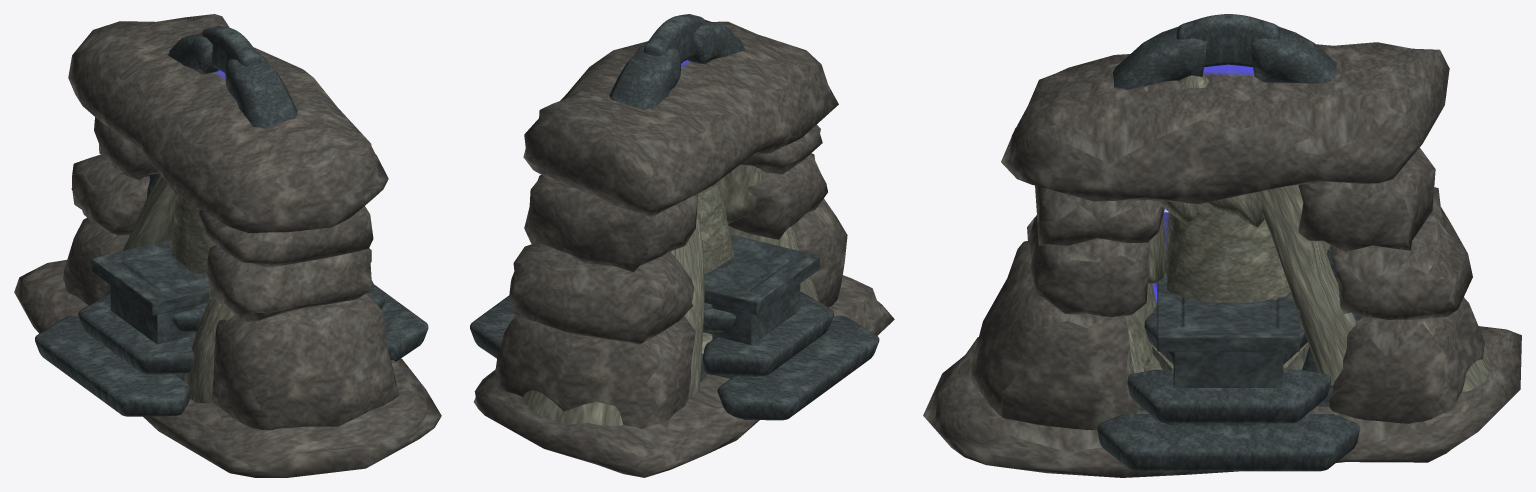
Rendered from stonework.glb.
The picture shows the model from 3 angles, left to right: view 1: azimuth 30°, elevation 25°; view 2: azimuth 150°, elevation 25°; view 3: azimuth 270°, elevation 25°; orthographic projection. The views are drawn at different scales.
Visible parts, largest first — view 1: CavePortal, PortalSteps, StoneWorkTable, Portal, CaveEntrance, Menhir, PortalCap; view 2: CavePortal, PortalSteps, StoneWorkTable, CaveEntrance, Portal, Menhir, PortalCap; view 3: CavePortal, PortalSteps, CaveEntrance, StoneWorkTable, Menhir, Portal, PortalCap, PortalGlow, Forge.
Boxes of the visible parts, x1=… form: CavePortal: x1=14, y1=14, x2=441, y2=477; PortalSteps: x1=35, y1=284, x2=428, y2=416; StoneWorkTable: x1=91, y1=240, x2=371, y2=344; Portal: x1=145, y1=33, x2=297, y2=198; CaveEntrance: x1=105, y1=174, x2=235, y2=403; Menhir: x1=170, y1=195, x2=215, y2=274; PortalCap: x1=202, y1=26, x2=261, y2=73; CavePortal: x1=474, y1=20, x2=894, y2=477; PortalSteps: x1=470, y1=292, x2=879, y2=420; StoneWorkTable: x1=704, y1=234, x2=819, y2=344; CaveEntrance: x1=522, y1=164, x2=818, y2=426; Portal: x1=609, y1=21, x2=745, y2=382; Menhir: x1=697, y1=180, x2=733, y2=273; PortalCap: x1=644, y1=14, x2=705, y2=63; CavePortal: x1=923, y1=42, x2=1521, y2=477; PortalSteps: x1=1097, y1=283, x2=1359, y2=471; CaveEntrance: x1=1125, y1=74, x2=1489, y2=391; StoneWorkTable: x1=1157, y1=212, x2=1299, y2=387; Menhir: x1=1165, y1=202, x2=1290, y2=302; Portal: x1=1113, y1=26, x2=1375, y2=410; PortalCap: x1=1176, y1=14, x2=1280, y2=67; PortalGlow: x1=1152, y1=64, x2=1253, y2=302; Forge: x1=1152, y1=342, x2=1309, y2=372.
Size of the model in its own units: 2.93 by 3.35 by 4.2.
Materials: 7 (4 with a texture image).
